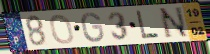3: (106, 11, 129, 42)
8: (25, 14, 48, 47)
G: (80, 12, 106, 44)
L: (135, 10, 162, 41)
N: (158, 6, 190, 41)
O: (49, 14, 76, 46)
